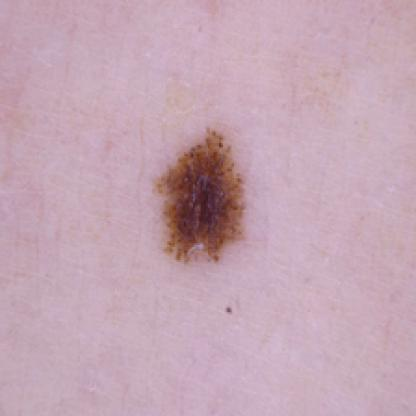benign: (151, 134, 258, 276)
